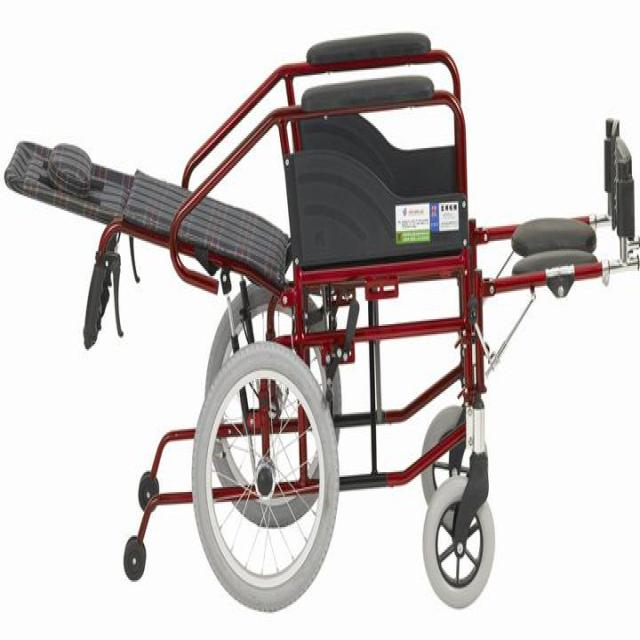wheelchairs: (120, 18, 640, 612)
